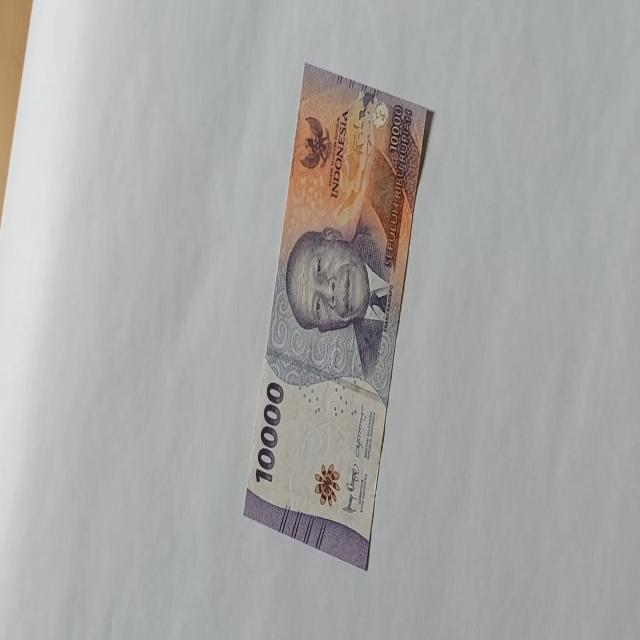sepuluh ribu rupiah: (242, 61, 432, 570)
